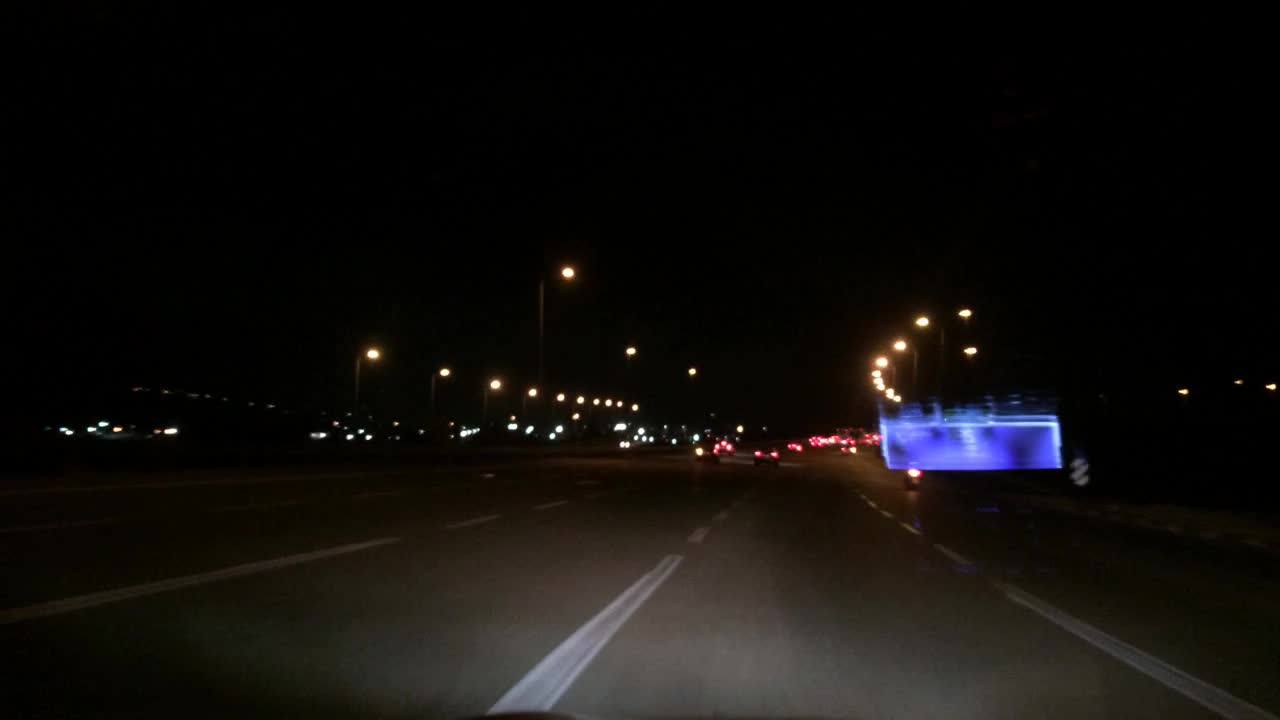car: (749, 445, 781, 464), (905, 459, 924, 485), (692, 446, 718, 462), (714, 439, 736, 454), (839, 443, 858, 455)
